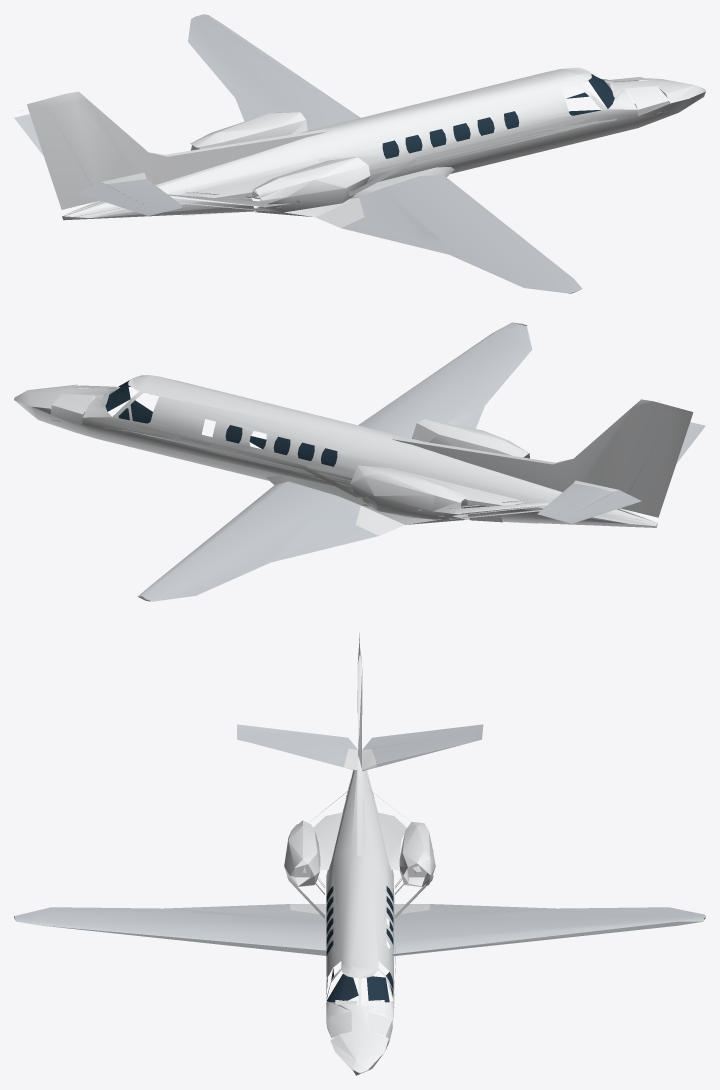
3 renders of one model, top to bottom at view 1: azimuth 30°, elevation 25°; view 2: azimuth 150°, elevation 25°; view 3: azimuth 270°, elevation 25°, orthographic. The views are drawn at different scales.
Parts seen in each view (by area): view 1: hull, wing, tail, engine, glass, band-cheatline, band-belly-trim, band-tailcone-trim, band-cheatline-trim; view 2: hull, wing, tail, engine, glass, band-cheatline, band-cheatline-trim, band-belly-trim, band-tailcone-trim; view 3: wing, hull, engine, glass, tail.
Boxes of the visible parts, bbox=[...] form: hull: bbox=[62, 67, 705, 227]; wing: bbox=[14, 14, 582, 293]; tail: bbox=[20, 91, 327, 209]; engine: bbox=[190, 112, 370, 212]; glass: bbox=[382, 74, 614, 158]; band-cheatline: bbox=[168, 117, 584, 207]; band-belly-trim: bbox=[69, 111, 668, 217]; band-tailcone-trim: bbox=[185, 119, 616, 202]; band-cheatline-trim: bbox=[77, 120, 597, 215]; hull: bbox=[14, 375, 657, 535]; wing: bbox=[137, 322, 705, 601]; tail: bbox=[392, 399, 693, 517]; engine: bbox=[350, 419, 529, 519]; glass: bbox=[105, 380, 337, 466]; band-cheatline: bbox=[135, 424, 550, 513]; band-cheatline-trim: bbox=[122, 429, 644, 521]; band-belly-trim: bbox=[51, 419, 649, 521]; band-tailcone-trim: bbox=[103, 427, 534, 510]; wing: bbox=[14, 724, 705, 956]; hull: bbox=[290, 770, 429, 1075]; engine: bbox=[284, 820, 435, 886]; glass: bbox=[326, 886, 393, 1002]; tail: bbox=[344, 633, 376, 855].
Size of the model in its own units: 16.3 by 4.03 by 15.5.
